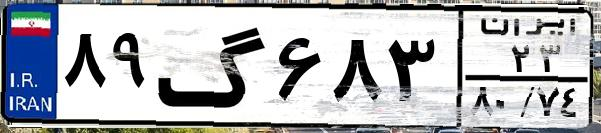0: (495, 70, 520, 125)
2: (508, 27, 537, 80)
3: (385, 28, 445, 110), (537, 27, 568, 80)
4: (560, 70, 590, 125)
6: (270, 28, 330, 110)
7: (535, 70, 560, 125)
8: (330, 28, 385, 110), (57, 26, 110, 100), (470, 70, 495, 125)
9: (110, 28, 156, 98)
گ: (156, 12, 270, 120)
